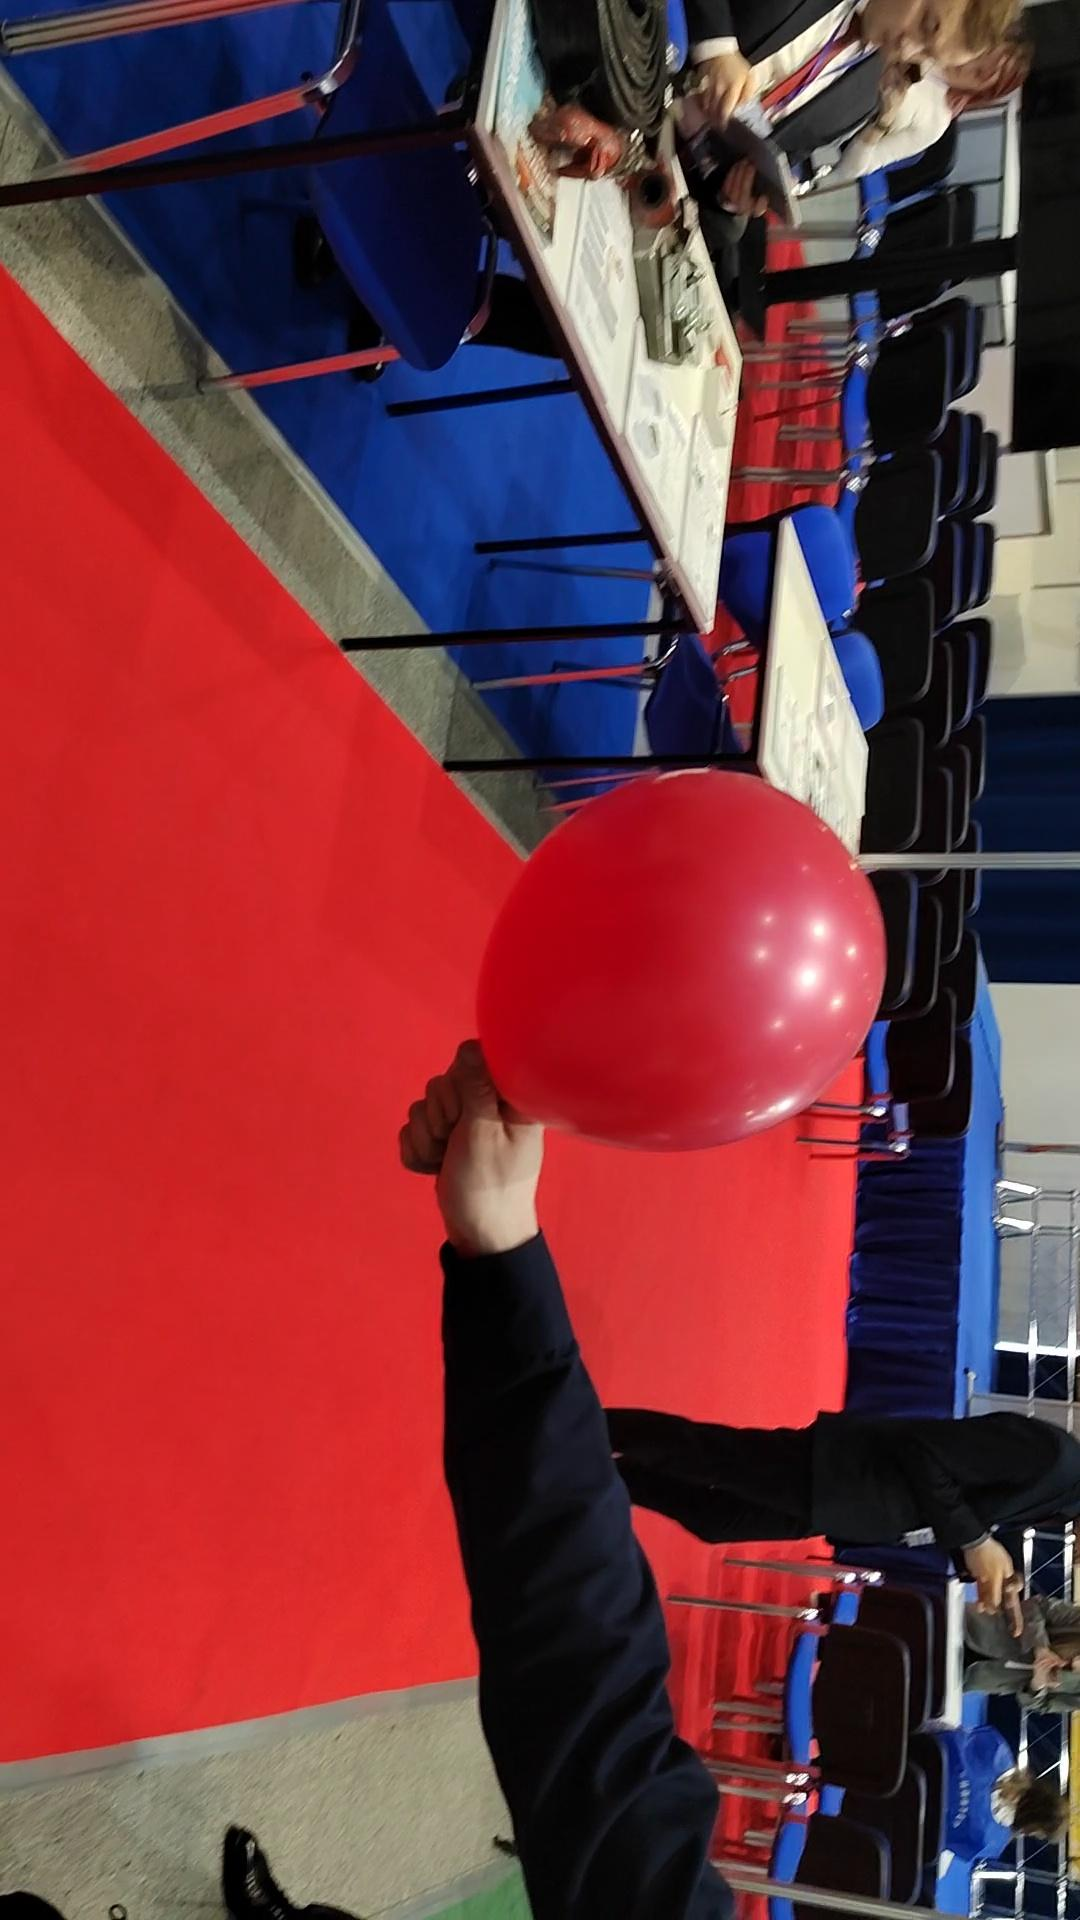red: (463, 761, 894, 1158)
